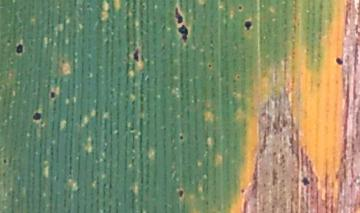tarspot: (175, 24, 189, 42), (173, 6, 184, 24), (132, 46, 140, 63), (333, 55, 344, 66), (31, 111, 42, 121), (15, 43, 24, 55), (300, 175, 309, 186), (243, 20, 252, 31), (177, 188, 185, 199), (48, 89, 55, 100), (176, 133, 184, 141), (2, 157, 9, 165), (236, 4, 243, 11), (235, 73, 241, 80), (207, 62, 212, 69), (240, 188, 245, 195)
